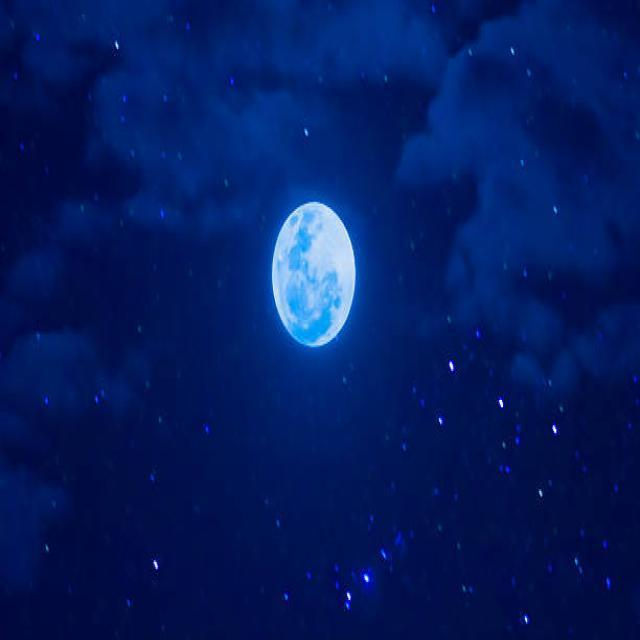moon: (264, 197, 356, 348)
